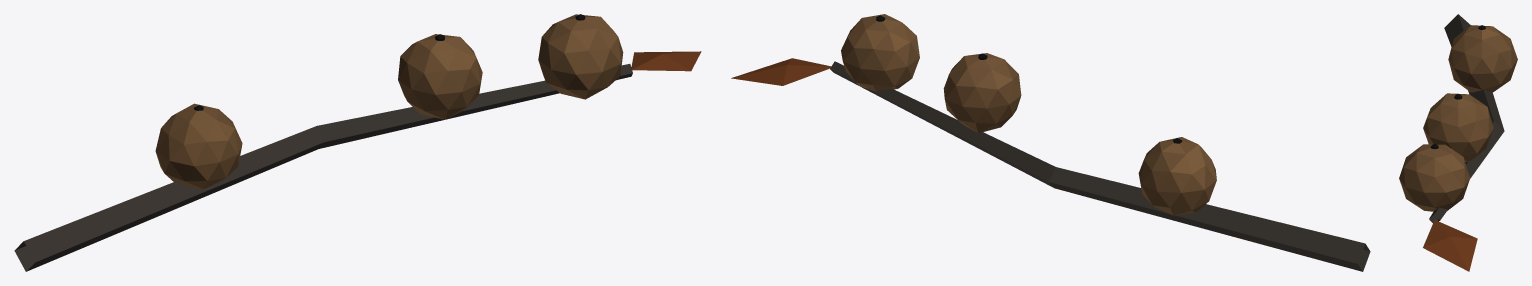
Rendered from oak_gall_twig.glb.
3 views of the same model, side by side, from view 1: azimuth 30°, elevation 25°; view 2: azimuth 150°, elevation 25°; view 3: azimuth 270°, elevation 25° (orthographic). The views are drawn at different scales.
Visible parts, largest first — view 1: oak_gall_twig; view 2: oak_gall_twig; view 3: oak_gall_twig.
Boxes of the visible parts, x1,y1,x2,y2 form: oak_gall_twig: (14, 14, 701, 271); oak_gall_twig: (731, 14, 1370, 271); oak_gall_twig: (1399, 14, 1517, 271).
Size of the model in its own units: 0.5445 by 0.104 by 0.1004.
